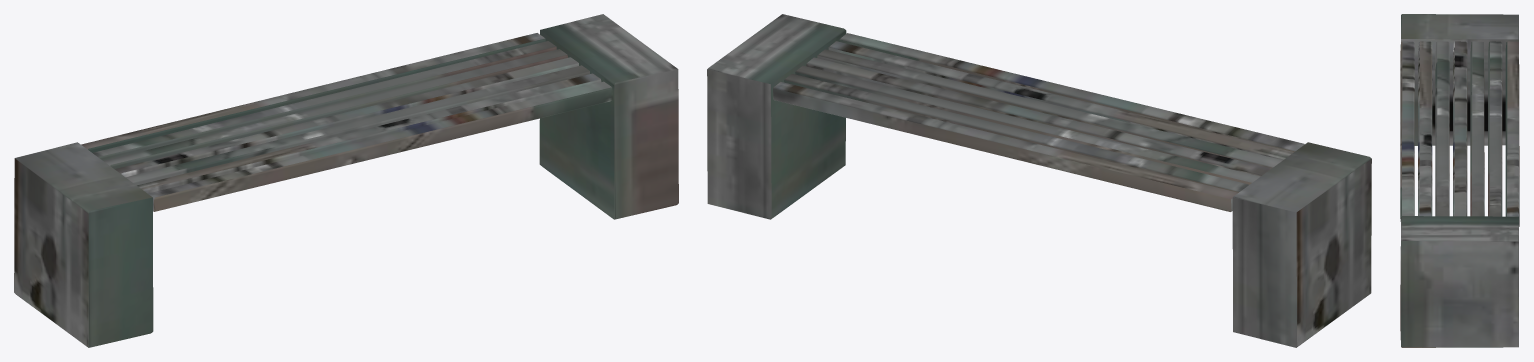
Rendered from sm_bench01.glb.
3 renders of one model, left to right at view 1: azimuth 30°, elevation 25°; view 2: azimuth 150°, elevation 25°; view 3: azimuth 270°, elevation 25°, orthographic. The views are drawn at different scales.
Visible parts, largest first — view 1: sm_bench01; view 2: sm_bench01; view 3: sm_bench01.
Boxes of the visible parts, <box> form: sm_bench01: <box>14,14,678,347</box>; sm_bench01: <box>707,14,1371,347</box>; sm_bench01: <box>1400,14,1519,347</box>.
Bounding box in the file's own units: 1.8 × 0.4 × 0.4005.
1 material, 1 textured.
